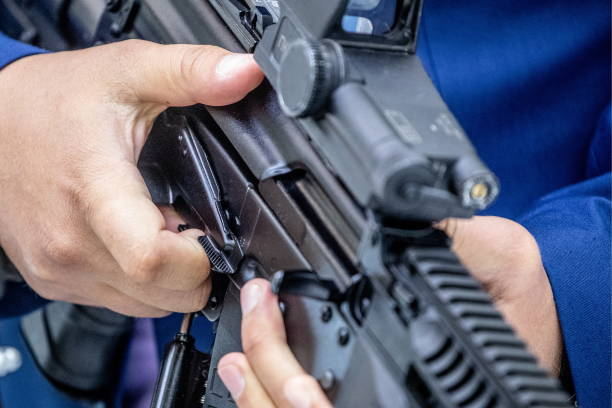rifle: (97, 1, 584, 408)
